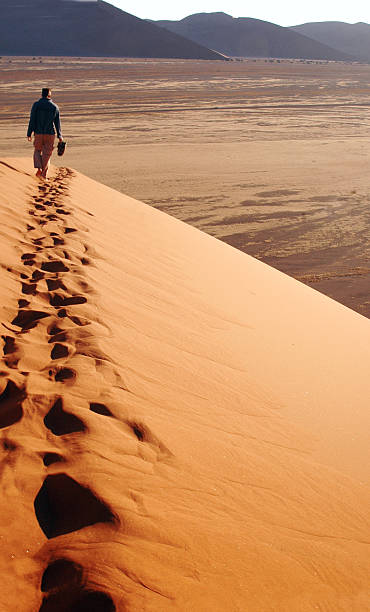human_footprint: (4, 190, 157, 581), (37, 249, 87, 384), (34, 472, 118, 538), (39, 556, 115, 611), (44, 397, 86, 435), (0, 378, 26, 428), (1, 334, 21, 368), (51, 342, 68, 359)
